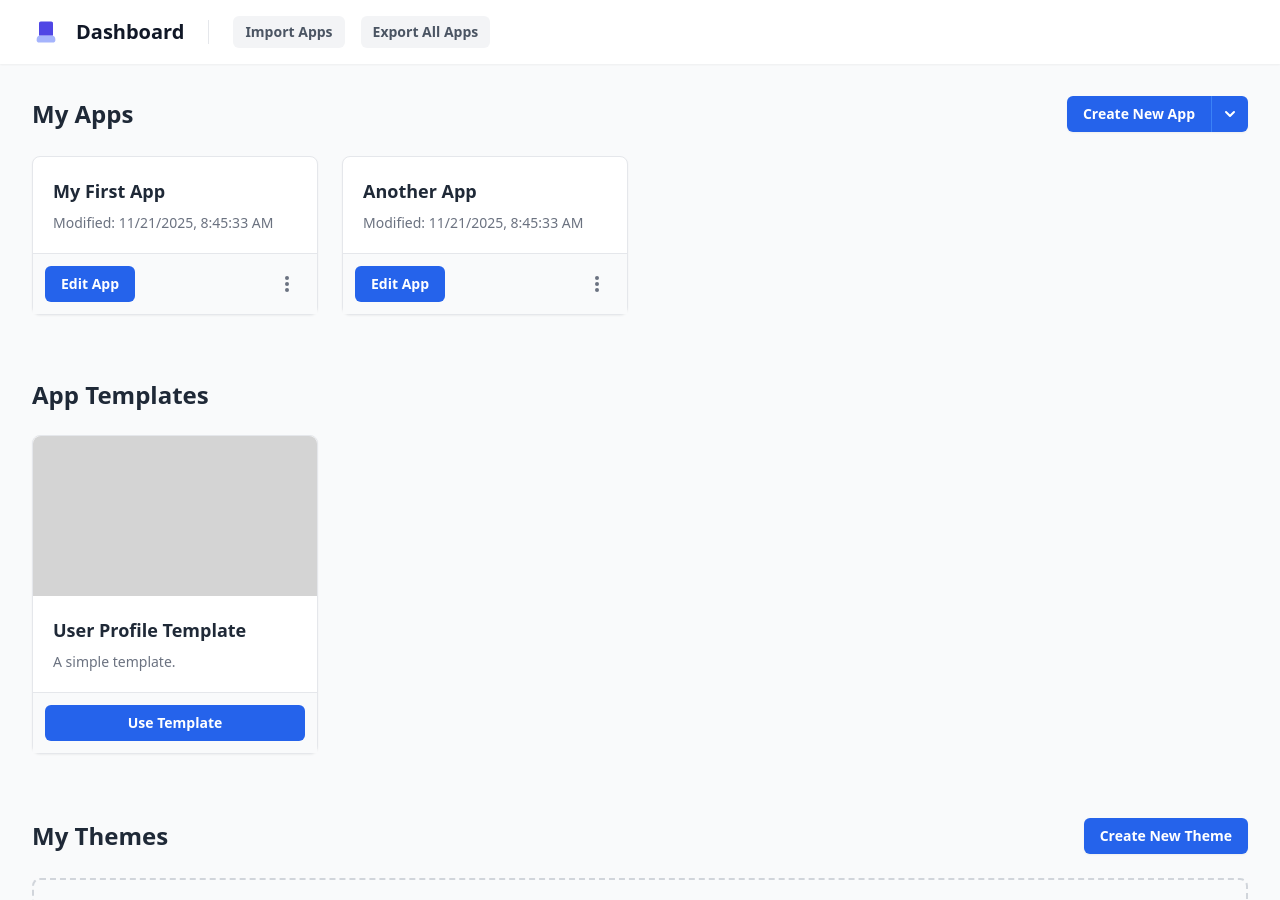
Test: Dashboard › should open delete confirmation modal and delete an app
Click the button without text below "My First App": [287, 284] box [269,266,305,302]
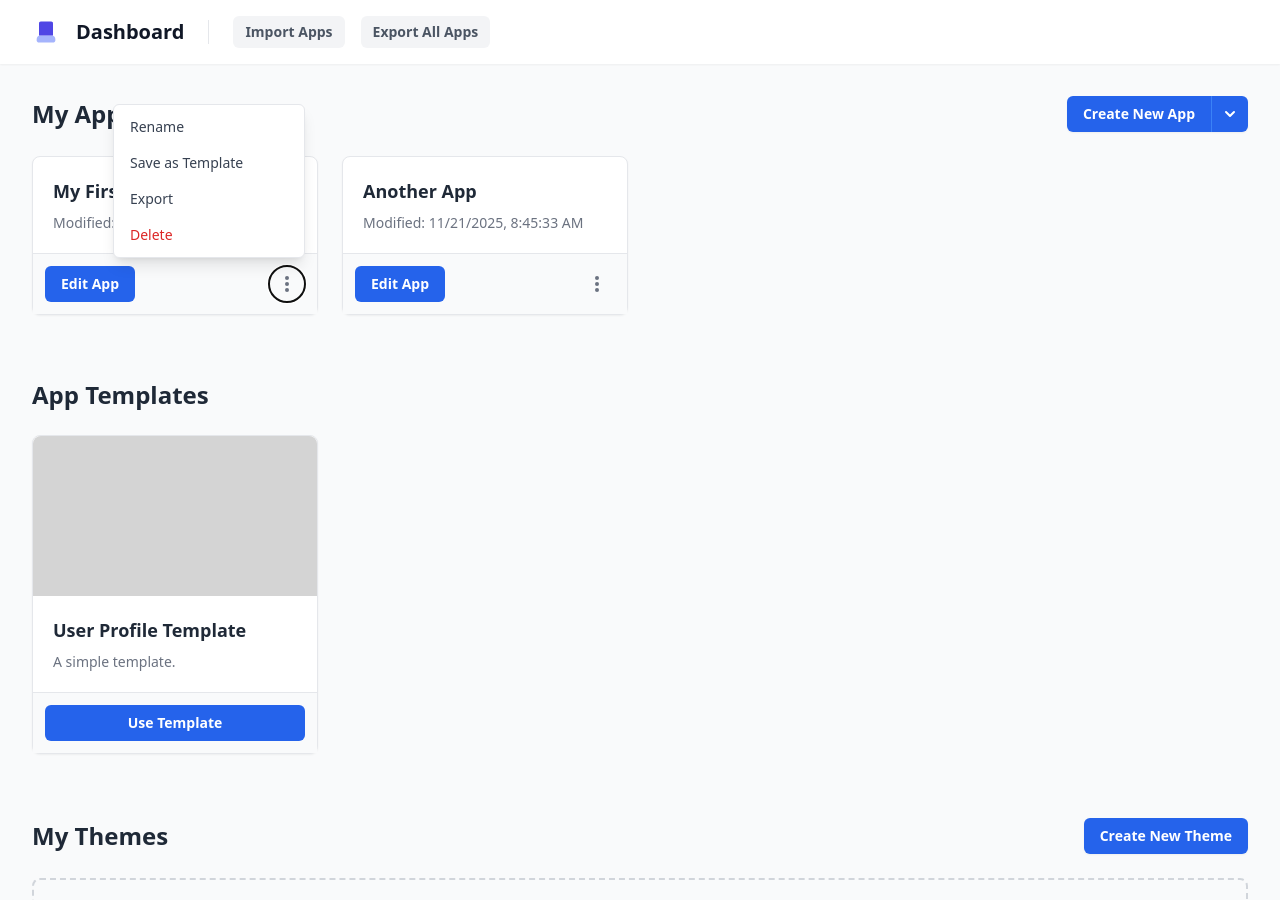
Click the link "Delete": [151, 234] box [130,225,173,244]
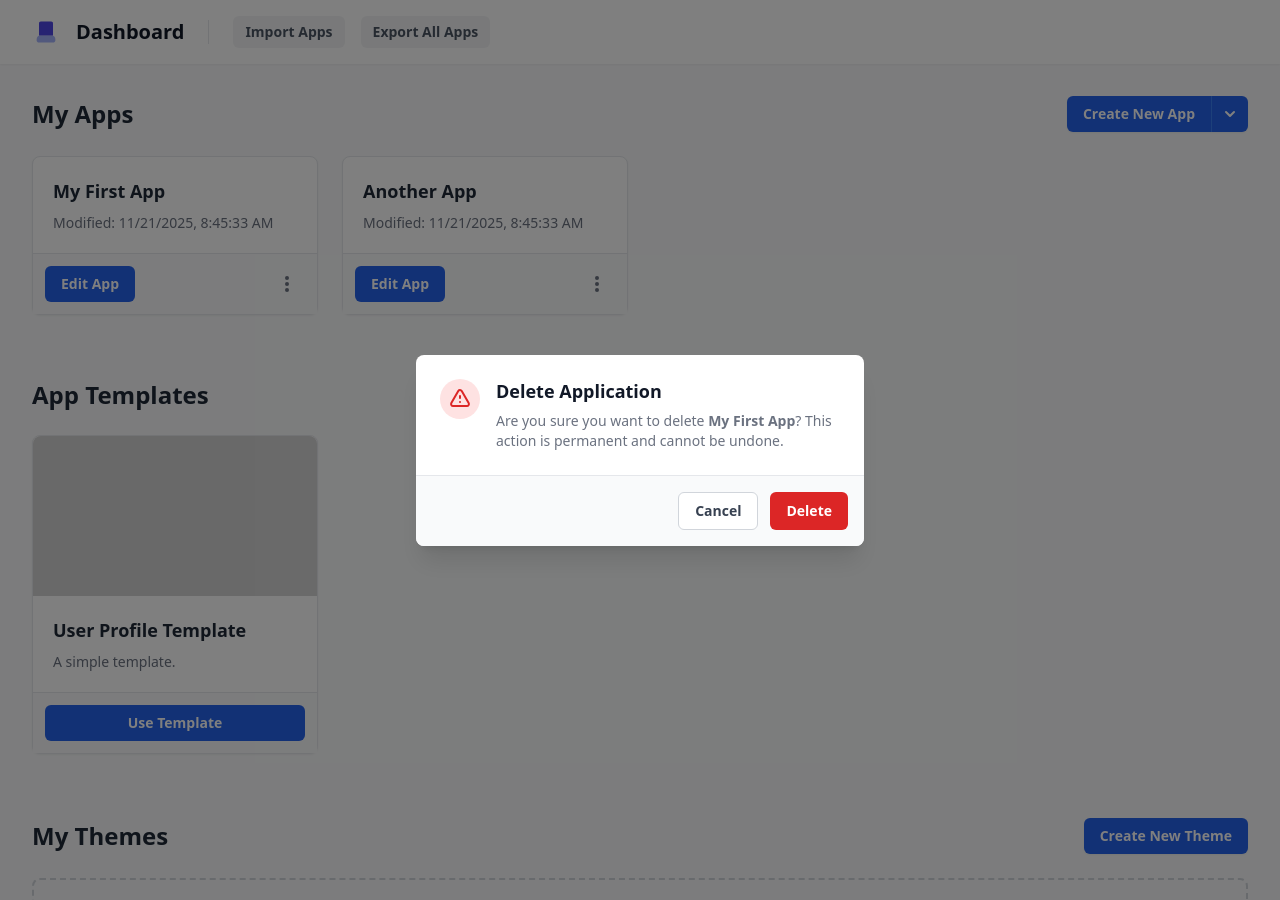
Result: the heading "Delete Application" is shown at [496,378,662,402]
Click the button "Delete": [809, 510] box [770,492,848,530]
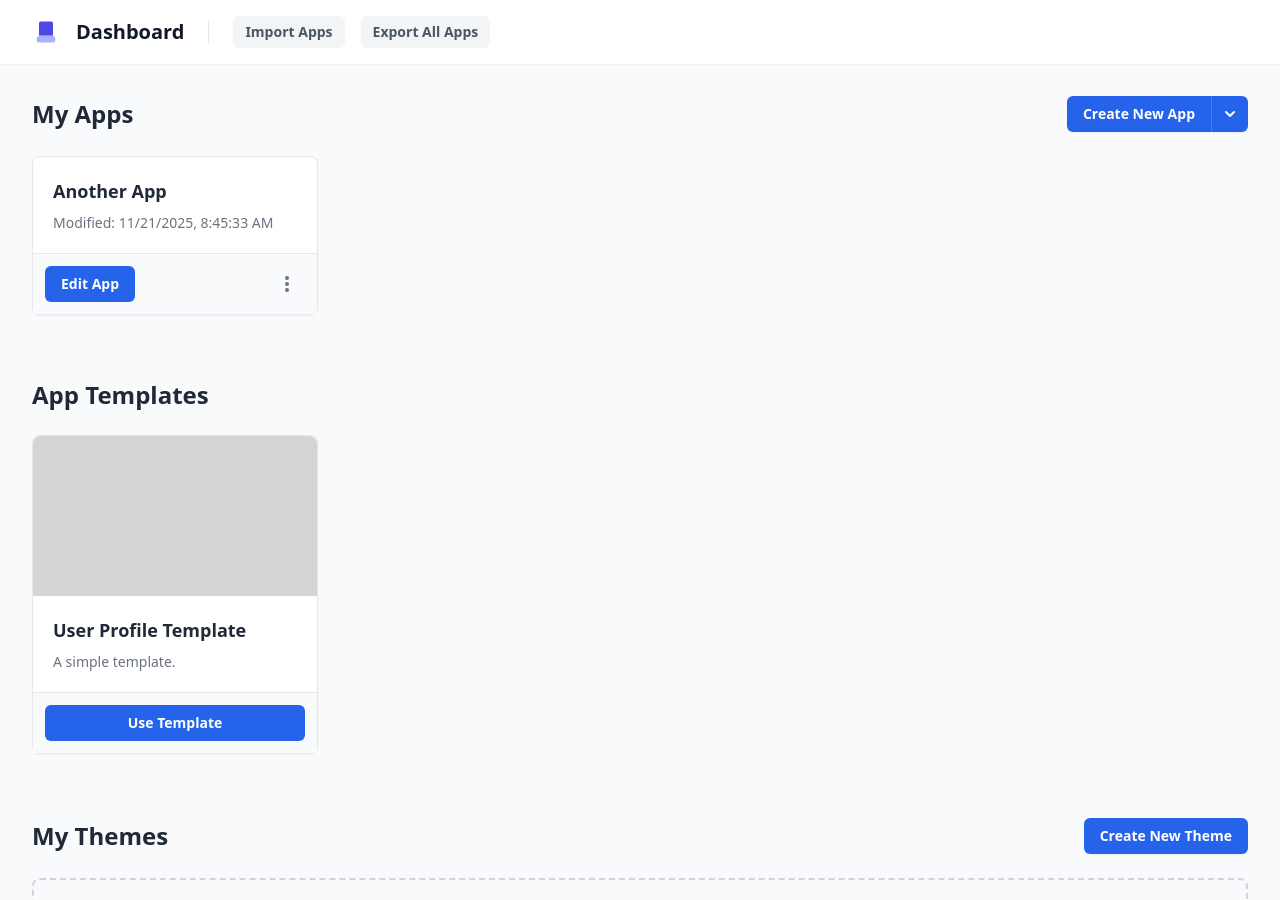
Result: the heading "My First App" is gone
